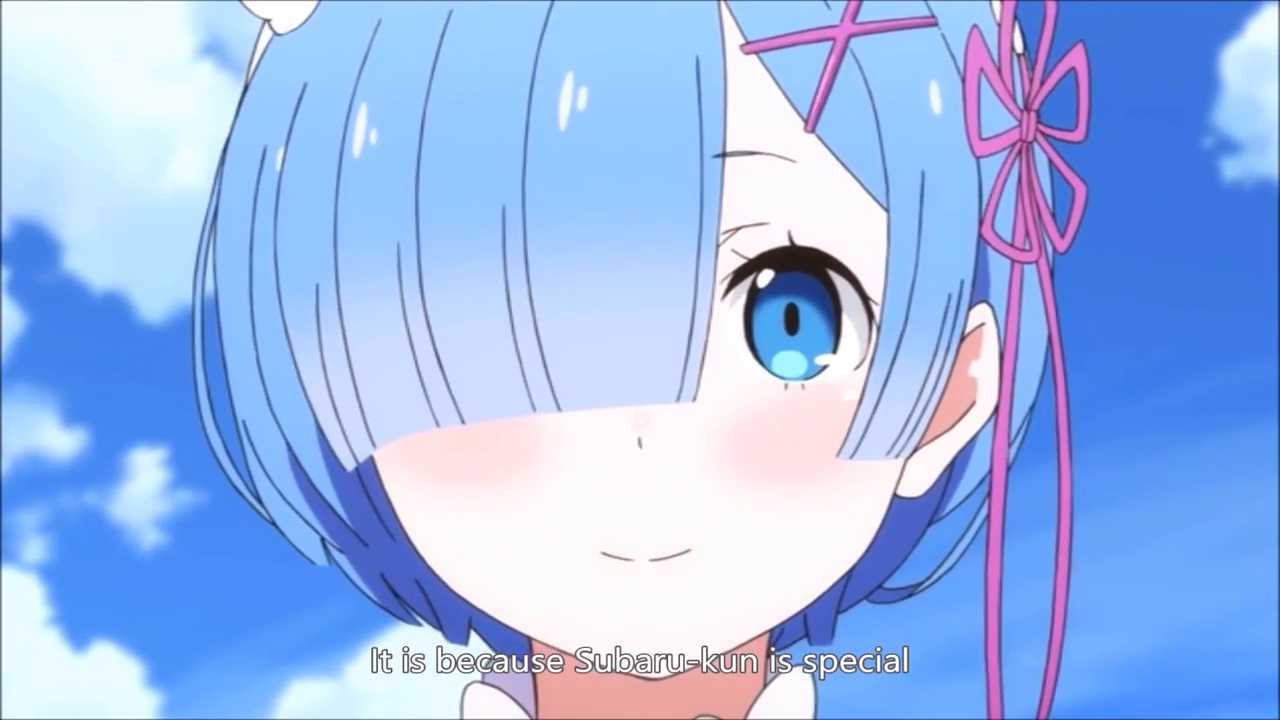REM: (191, 1, 1052, 680)
